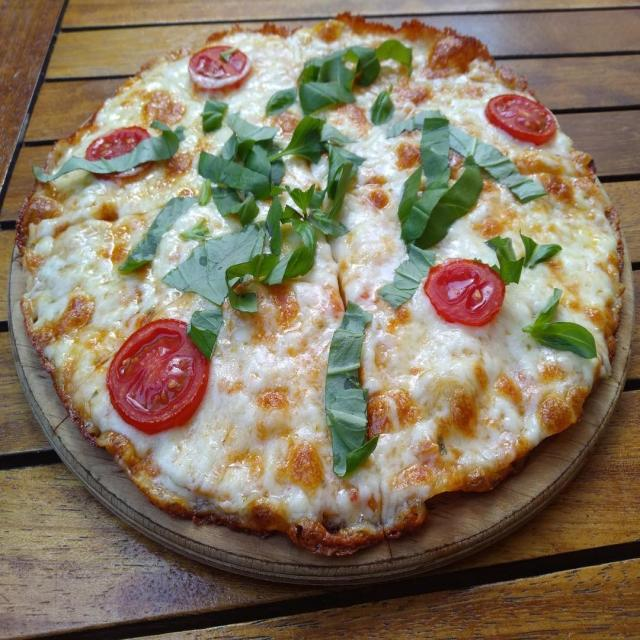basil: (184, 46, 380, 339), (398, 112, 508, 248), (34, 120, 185, 182), (325, 302, 377, 476), (162, 224, 264, 304), (449, 125, 546, 202), (119, 198, 196, 271), (523, 289, 596, 359), (379, 244, 435, 307), (486, 237, 524, 284), (375, 39, 412, 75), (522, 235, 562, 268), (389, 113, 435, 136), (371, 85, 394, 125), (202, 99, 229, 132), (266, 87, 296, 115), (512, 181, 546, 203), (180, 218, 209, 241), (199, 179, 211, 206)
pizza: (17, 14, 624, 554)
tomatoes: (107, 320, 209, 433), (424, 258, 505, 326), (485, 94, 558, 145), (190, 46, 251, 89), (85, 127, 150, 161)
